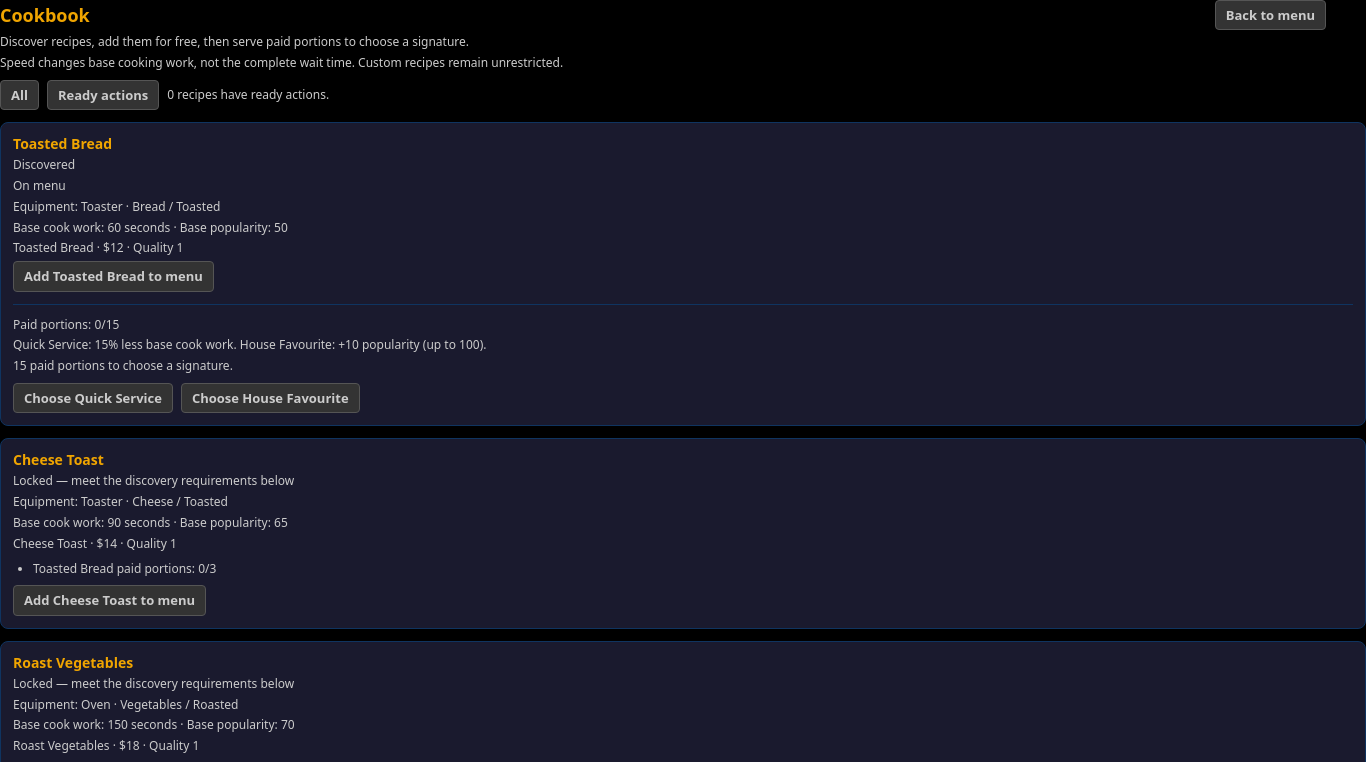
Test: CookbookPanel › shows the empty ready message when no recipe has a ready action
Expected: the text "0 recipes have ready actions." is shown, top-left (167, 87), bottom-right (329, 103)
Click the button "Ready actions" at (103, 95), box top-left (47, 80), bottom-right (159, 110)
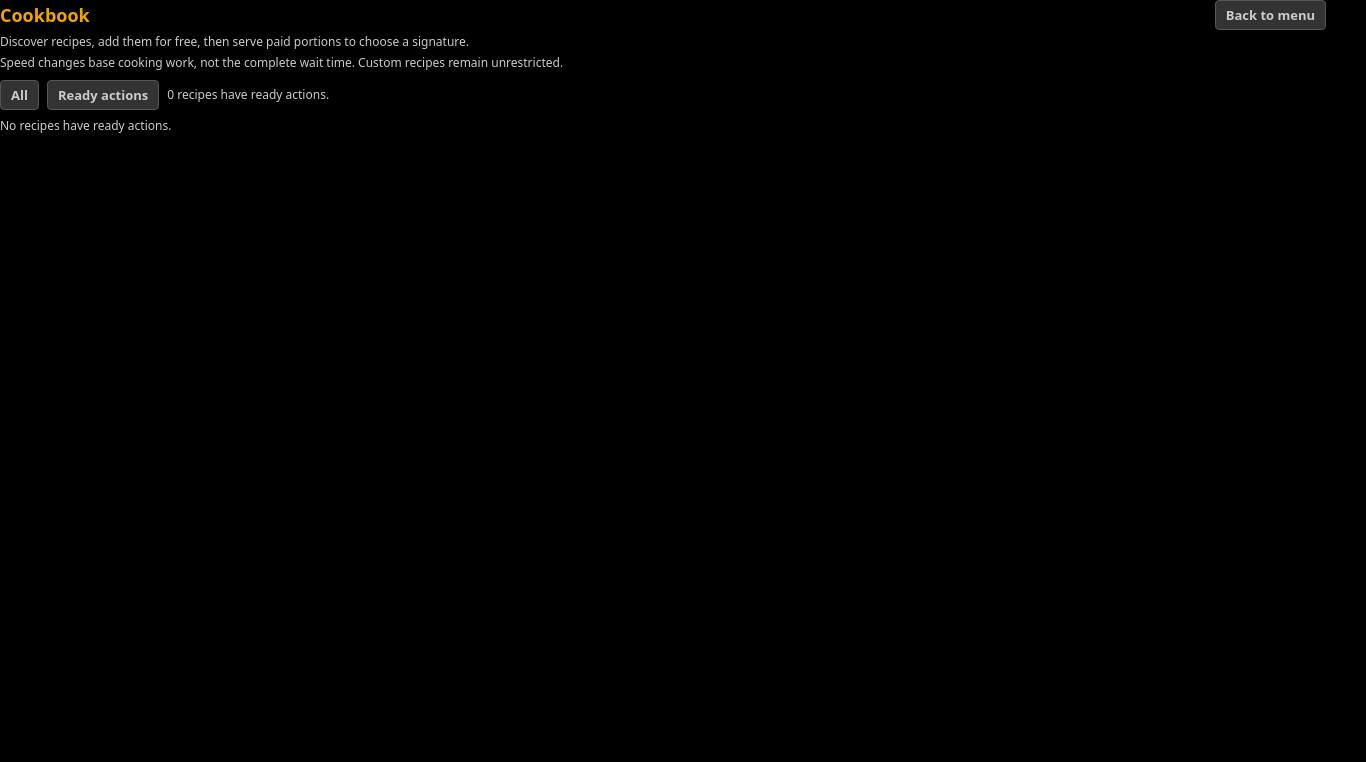
Result: the text "No recipes have ready actions." is shown at top-left (0, 117), bottom-right (171, 134)
